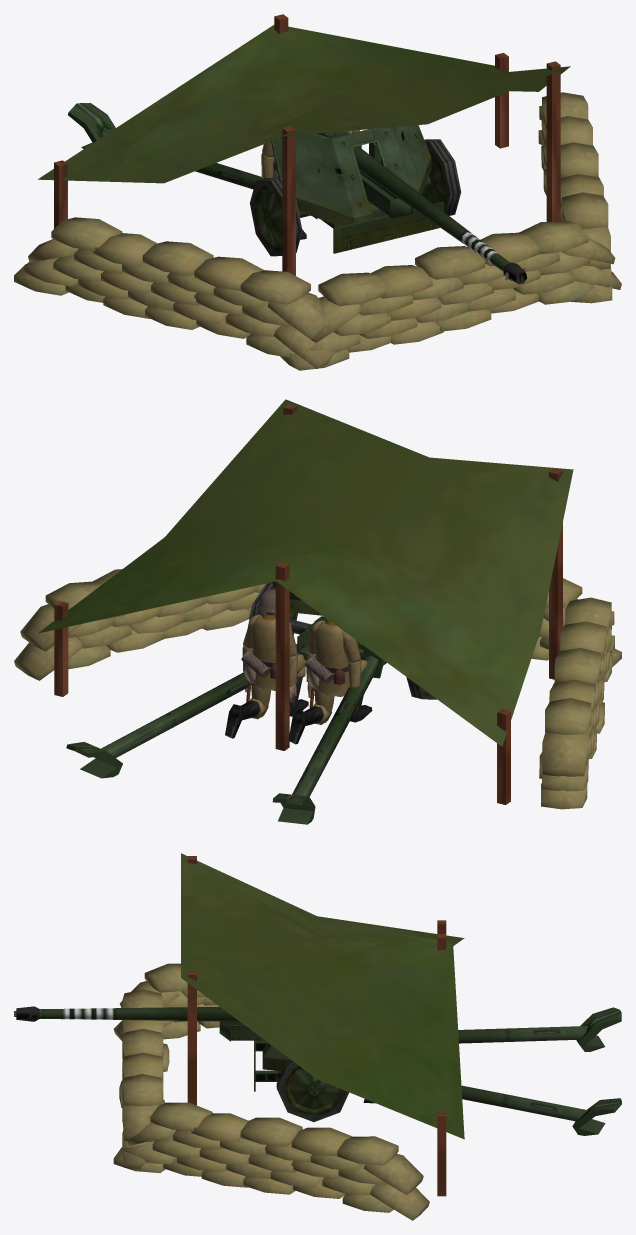
File: HUNPaK40_Stationary.dae
3 views of the same model, one above another, from view 1: azimuth 30°, elevation 25°; view 2: azimuth 150°, elevation 25°; view 3: azimuth 270°, elevation 25° (orthographic). The views are drawn at different scales.
Visible parts, largest first — view 1: base, turret, carriage, barrel, sleeve; view 2: base, carriage, torso1, torso2; view 3: base, carriage, barrel, sleeve, turret.
Boxes of the visible parts, x1,y1,x2,y2 form: base: (14, 14, 621, 370); turret: (271, 125, 430, 226); carriage: (68, 103, 461, 256); barrel: (317, 131, 527, 284); sleeve: (359, 171, 413, 218); base: (14, 399, 621, 809); carriage: (66, 582, 436, 824); torso1: (304, 619, 349, 708); torso2: (241, 613, 275, 702); base: (113, 853, 464, 1220); carriage: (254, 1007, 621, 1135); barrel: (16, 1006, 239, 1021); sleeve: (219, 1021, 264, 1041); turret: (262, 1040, 289, 1070).
Bounding box in the file's own units: 51.33 × 53.58 × 18.15.
